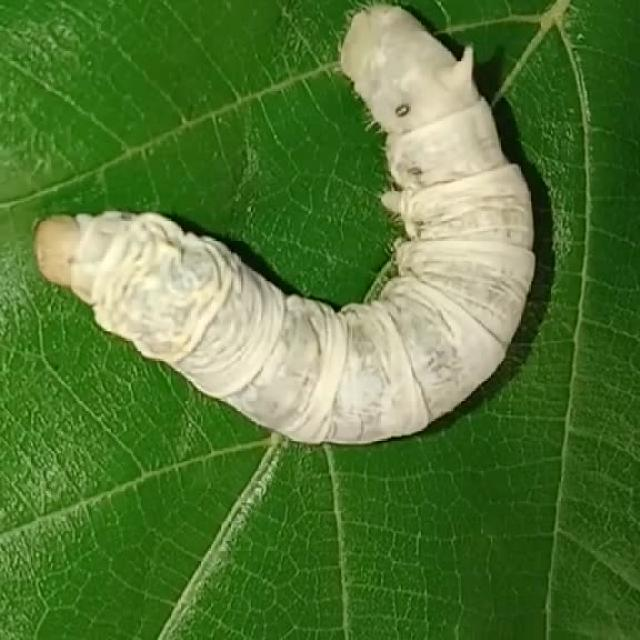Grasserie: (24, 0, 564, 477)
